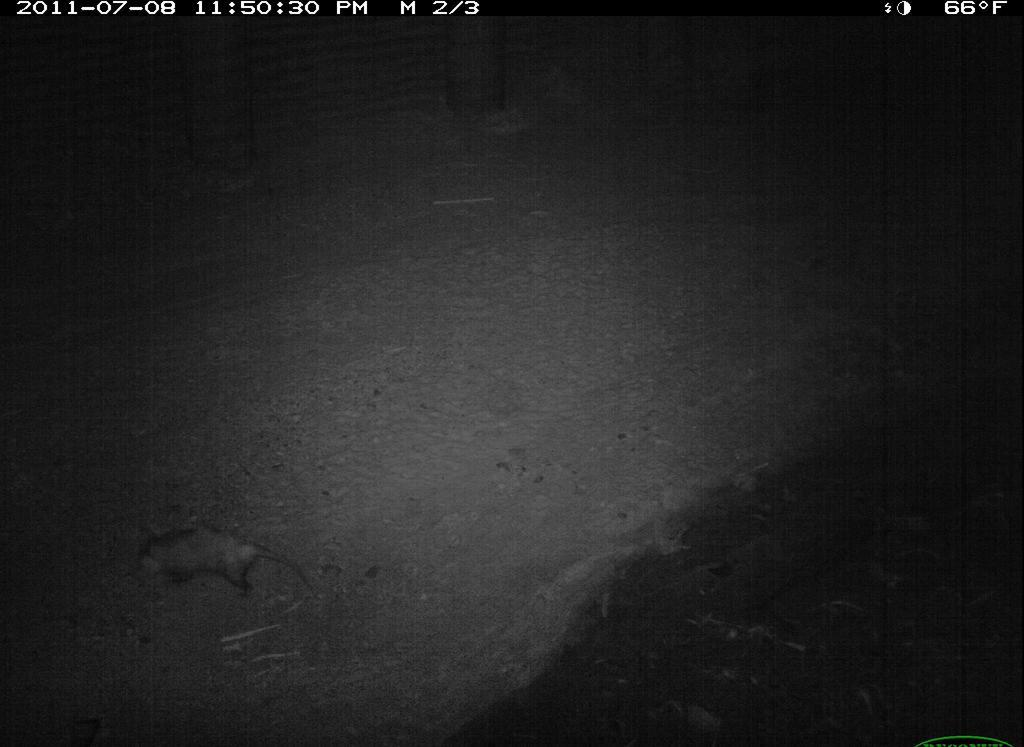opossum: (129, 521, 324, 611)
